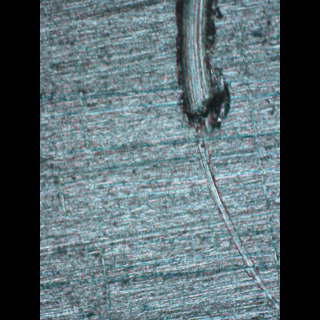d: (175, 0, 279, 317)
